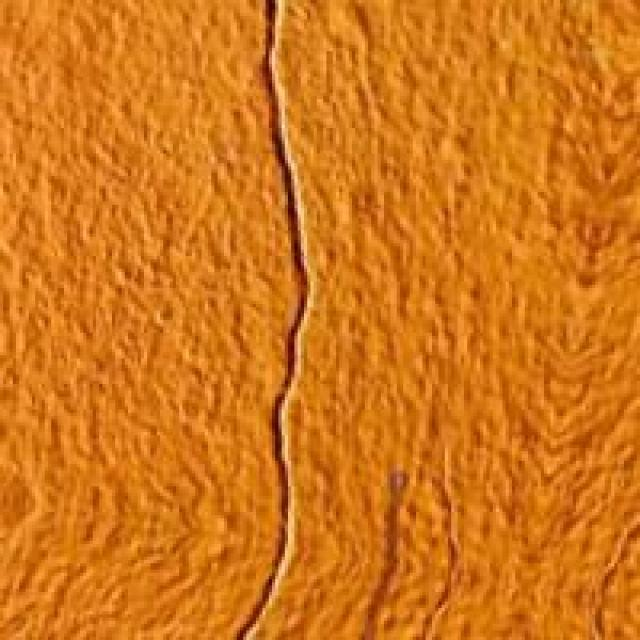crack: (192, 0, 358, 637)
